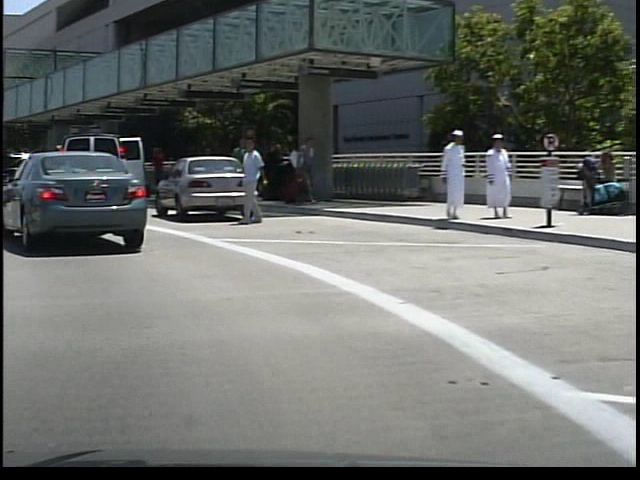person: (232, 131, 268, 229), (474, 129, 510, 221), (434, 126, 465, 221), (287, 133, 315, 208), (144, 141, 167, 205)
